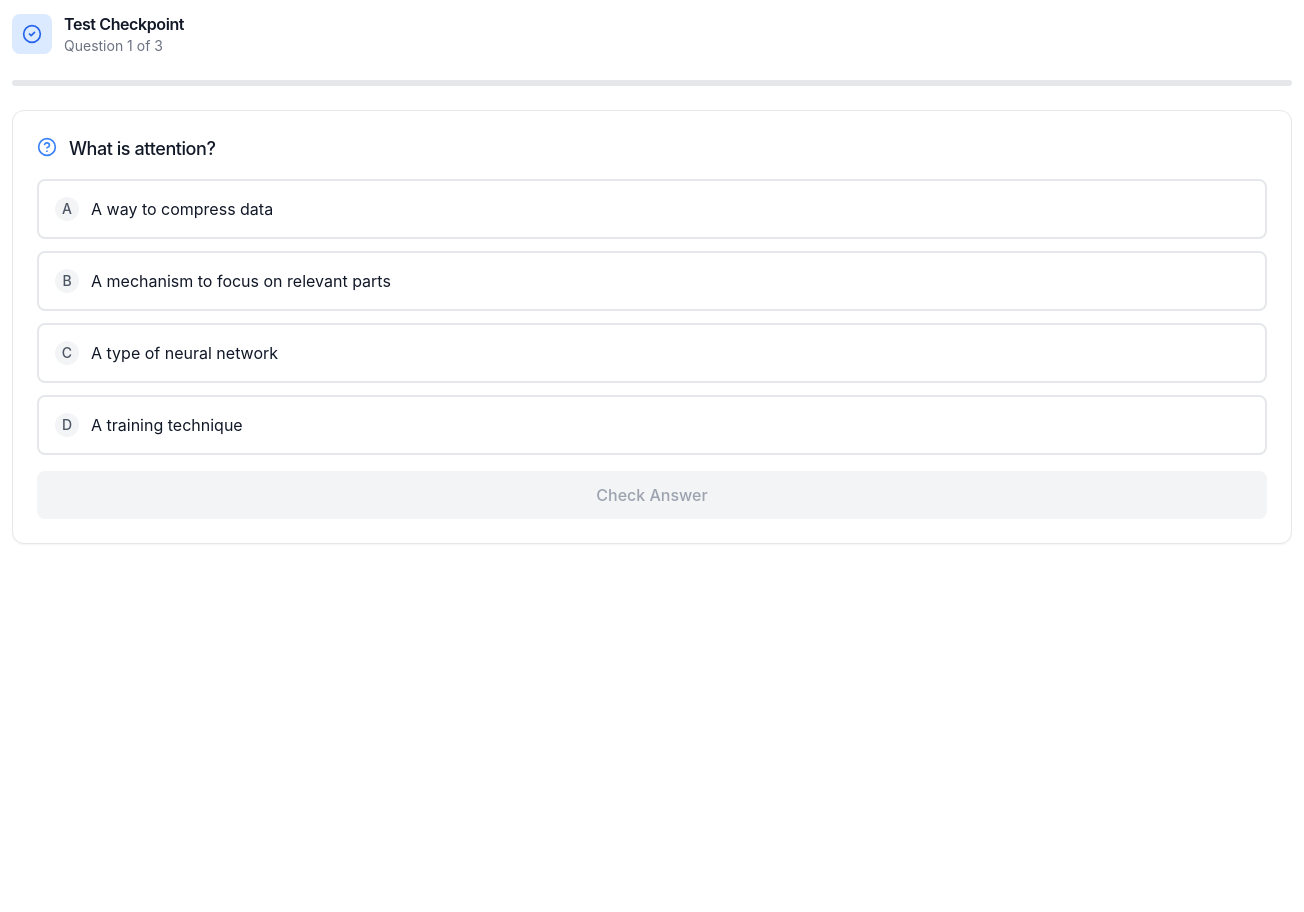
Test case: CheckpointView › advances to next question when continue is clicked
Note: Answer first question
Click the text "A mechanism to focus on relevant parts" at (241, 281), box [91, 271, 391, 291]
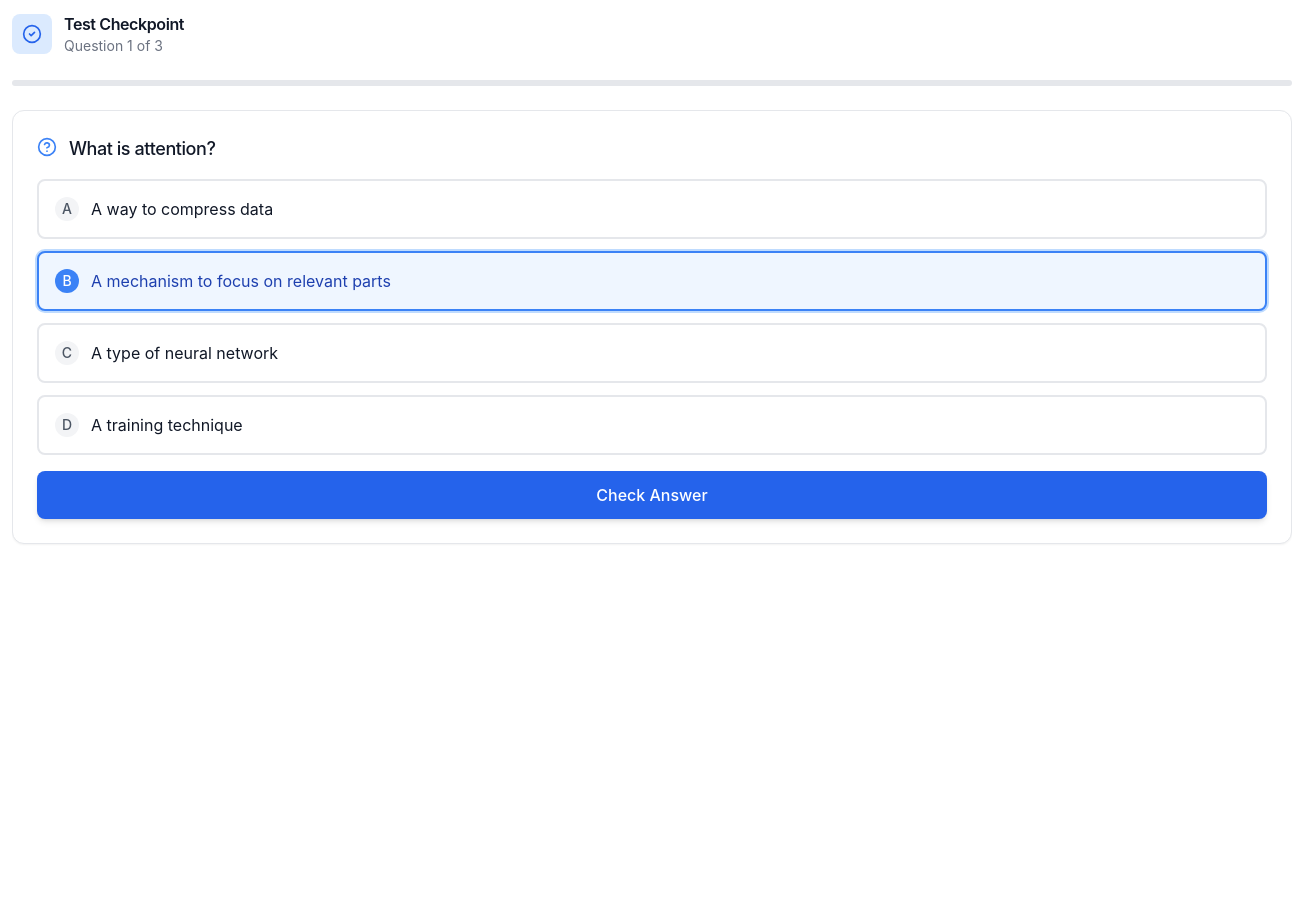
Click the button "Check Answer" at (652, 495), box [37, 471, 1267, 519]
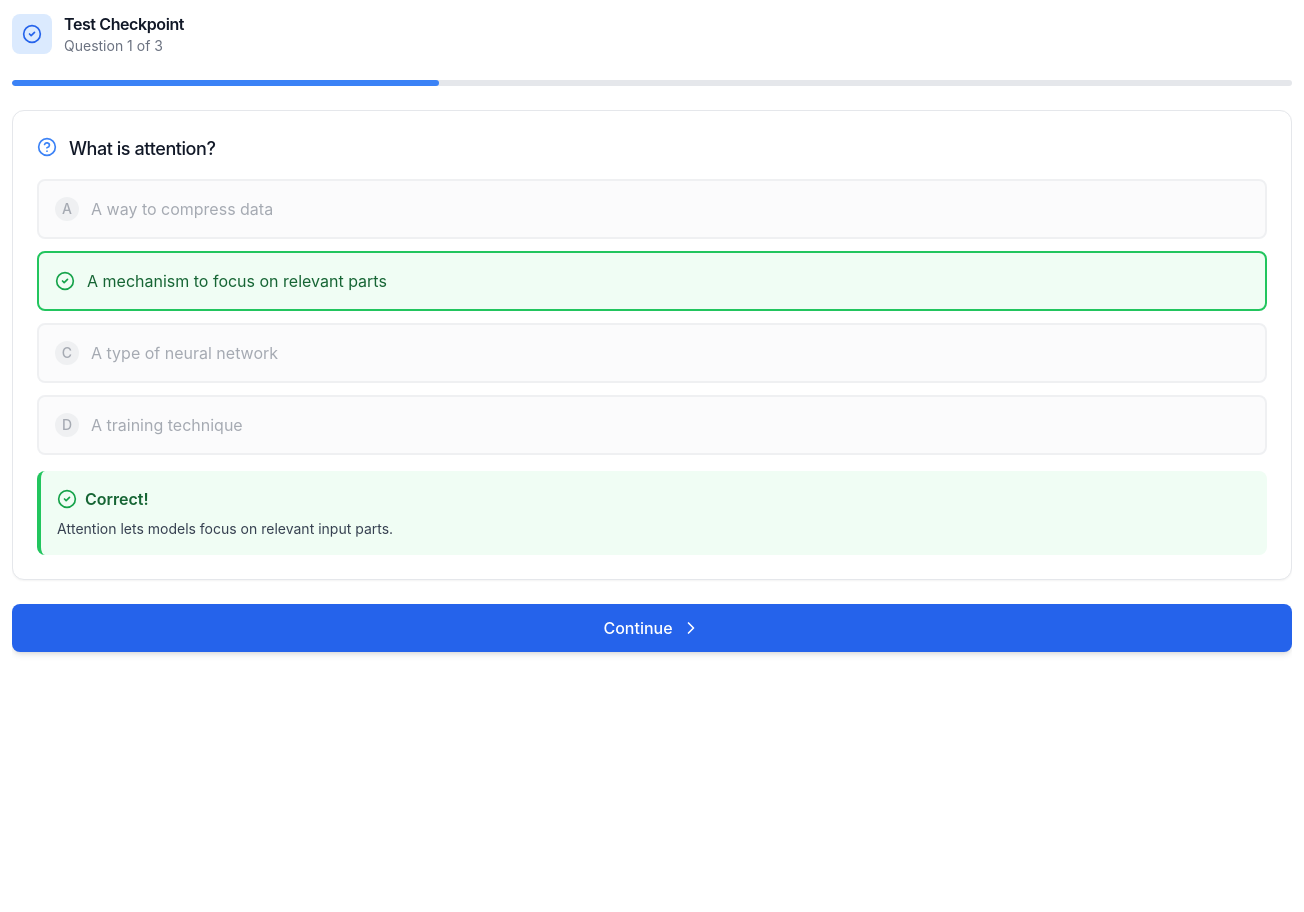
Note: Click continue
Click the button with test id "continue-button" at (652, 628), box [12, 604, 1292, 652]
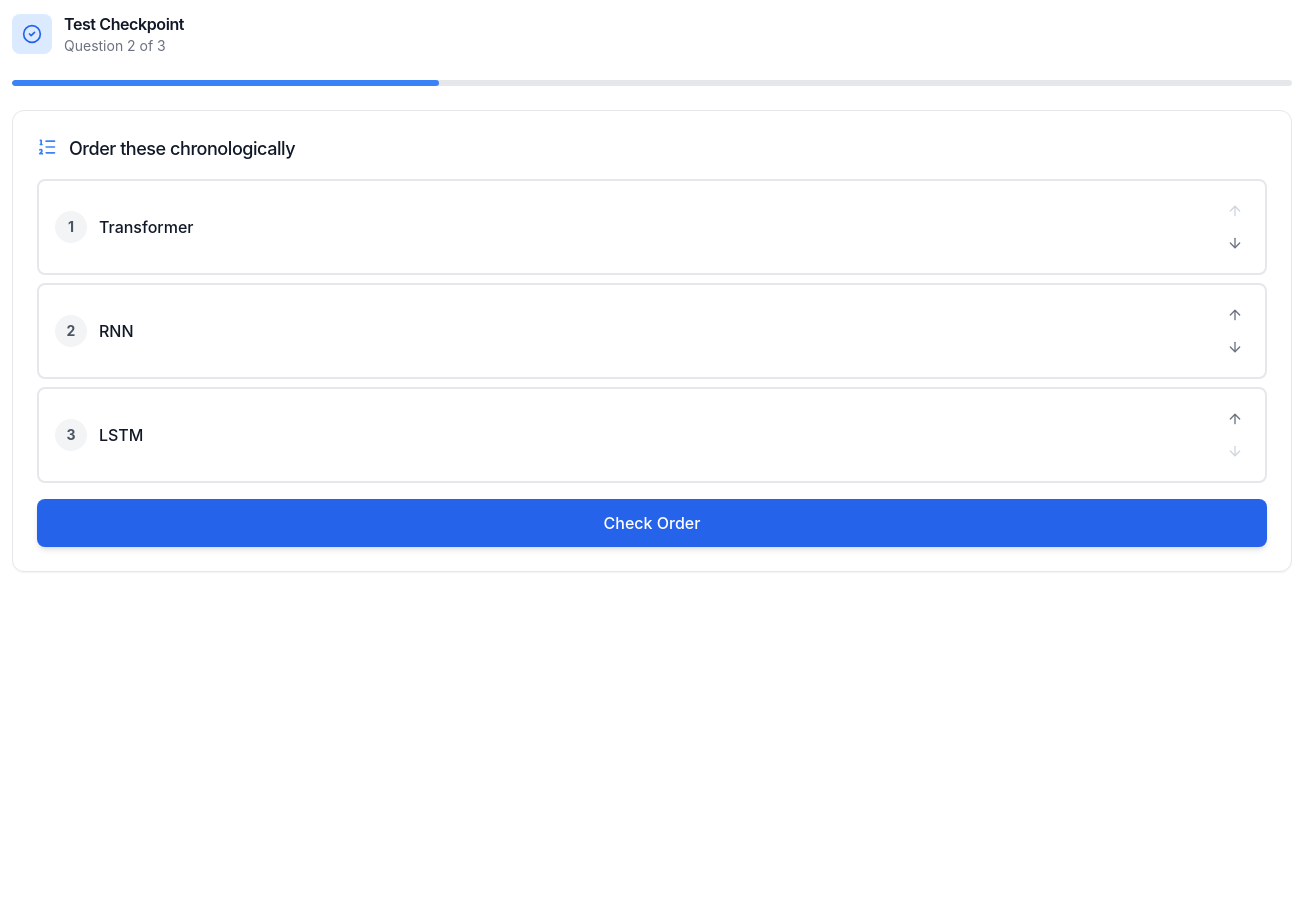
Expected: the text "Question 2 of 3" is shown, [64, 37, 166, 54]
